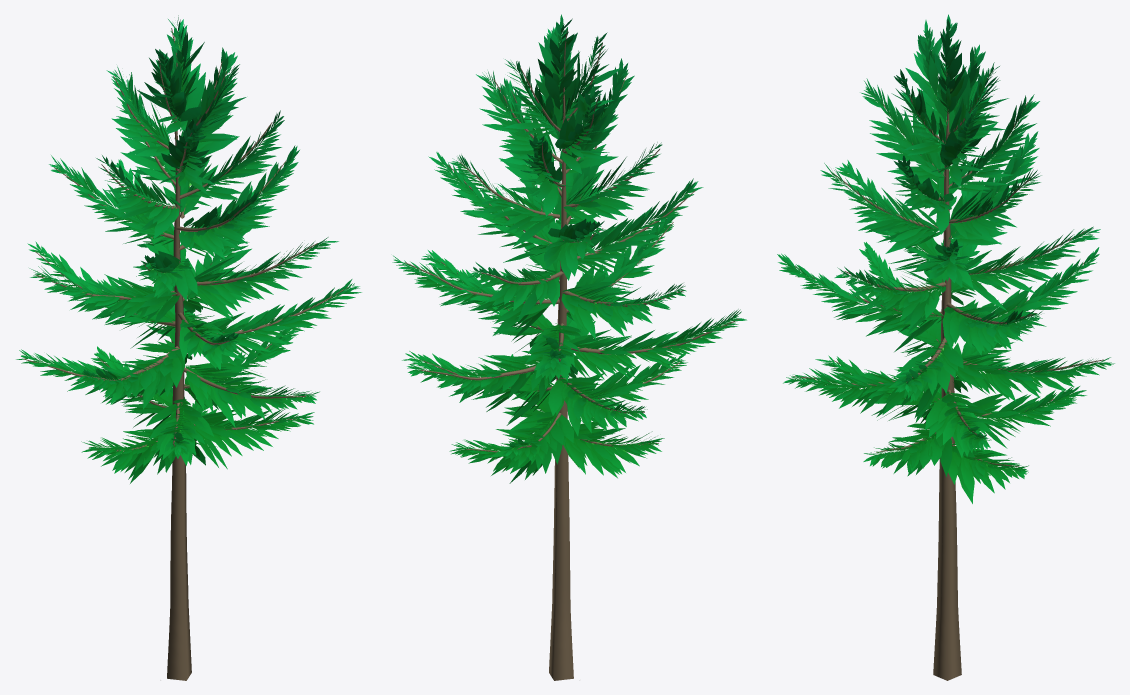
The model's file is tree_green.fbx.
3 views of the same model, side by side, from view 1: azimuth 30°, elevation 25°; view 2: azimuth 150°, elevation 25°; view 3: azimuth 270°, elevation 25° (orthographic).
Parts seen in each view (by area): view 1: polySurface7816, polySurface2931; view 2: polySurface7816, polySurface2931; view 3: polySurface7816, polySurface2931.
Boxes of the visible parts, x1,y1,x2,y2 form: polySurface7816: [16, 15, 361, 483]; polySurface2931: [23, 28, 348, 680]; polySurface7816: [392, 14, 746, 483]; polySurface2931: [405, 29, 739, 680]; polySurface7816: [777, 14, 1114, 503]; polySurface2931: [793, 70, 1103, 680].
Bounding box in the file's own units: 885 × 1818 × 851.
Materials: 3 (2 with a texture image).
